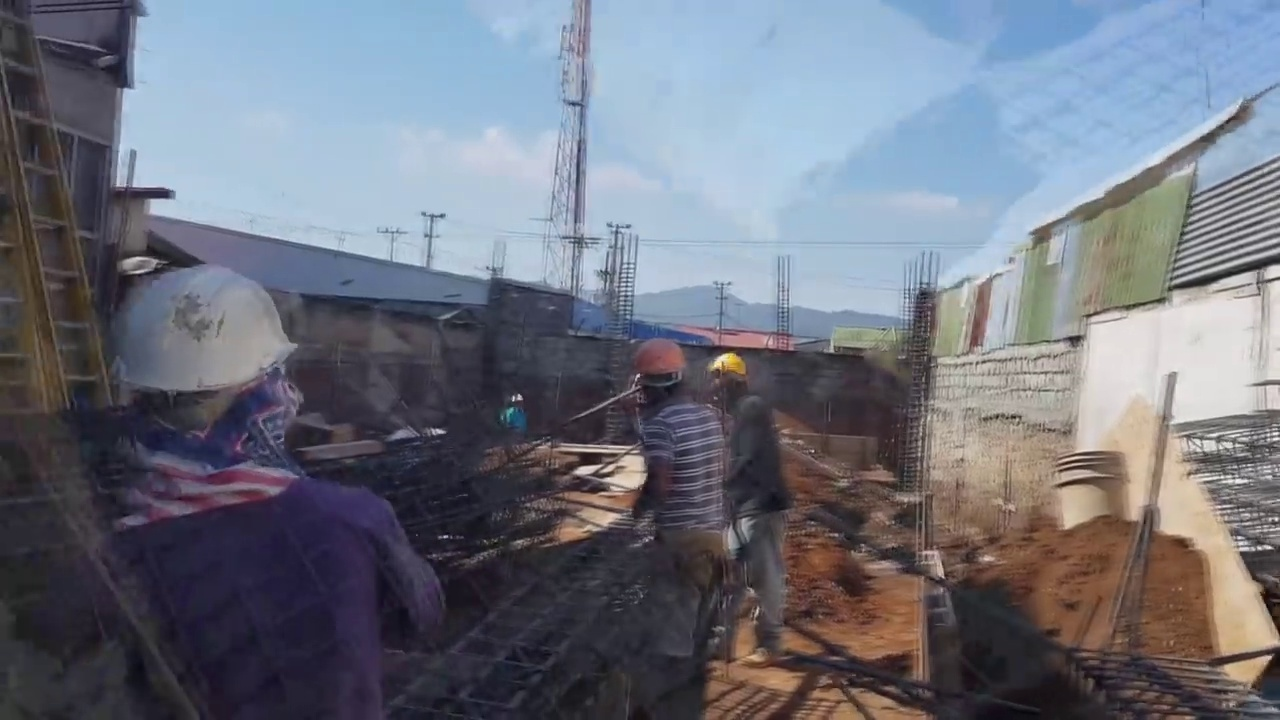helmet: (86, 257, 289, 399), (631, 339, 687, 376), (709, 353, 749, 377), (510, 393, 524, 404)
helmet-on: (81, 255, 308, 498), (631, 345, 686, 411), (709, 356, 753, 404), (508, 391, 524, 412)
person: (52, 246, 451, 717), (619, 346, 715, 703), (706, 346, 791, 643), (500, 393, 529, 441)
